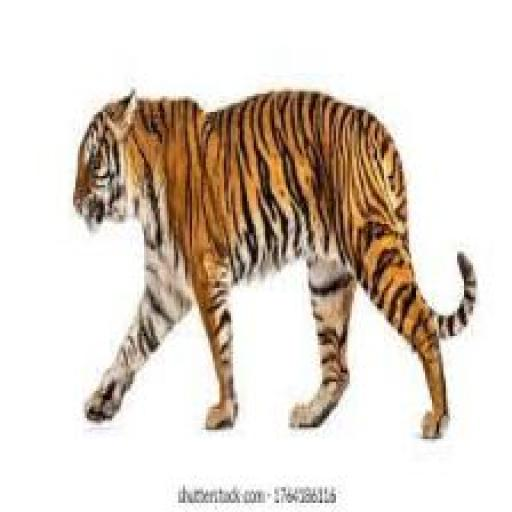Tiger: (77, 92, 476, 438)
